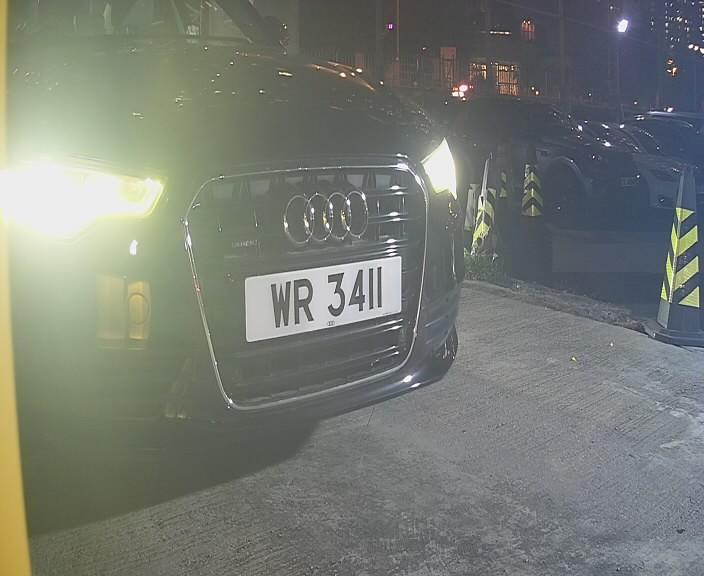Car: (7, 6, 551, 466)
License Plate: (230, 250, 411, 343)
